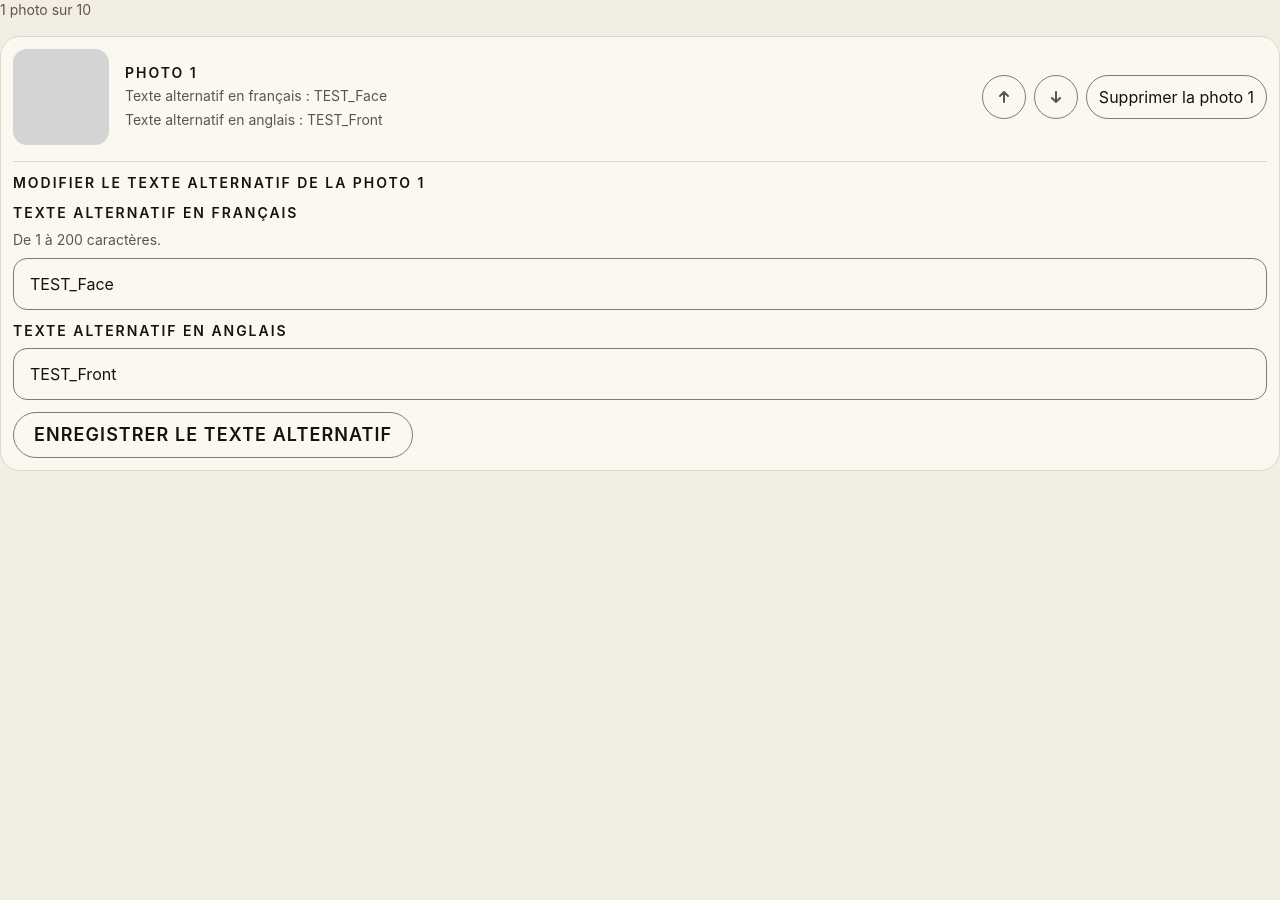
Test: suppression d'une photo › dernière photo d'un produit publié refusée : message clair, aucune annonce de succès, pas de relecture
The width and height of the screenshot is (1280, 900).
Click the button "Supprimer la photo 1" at (1176, 97), box [1086,75,1267,119]
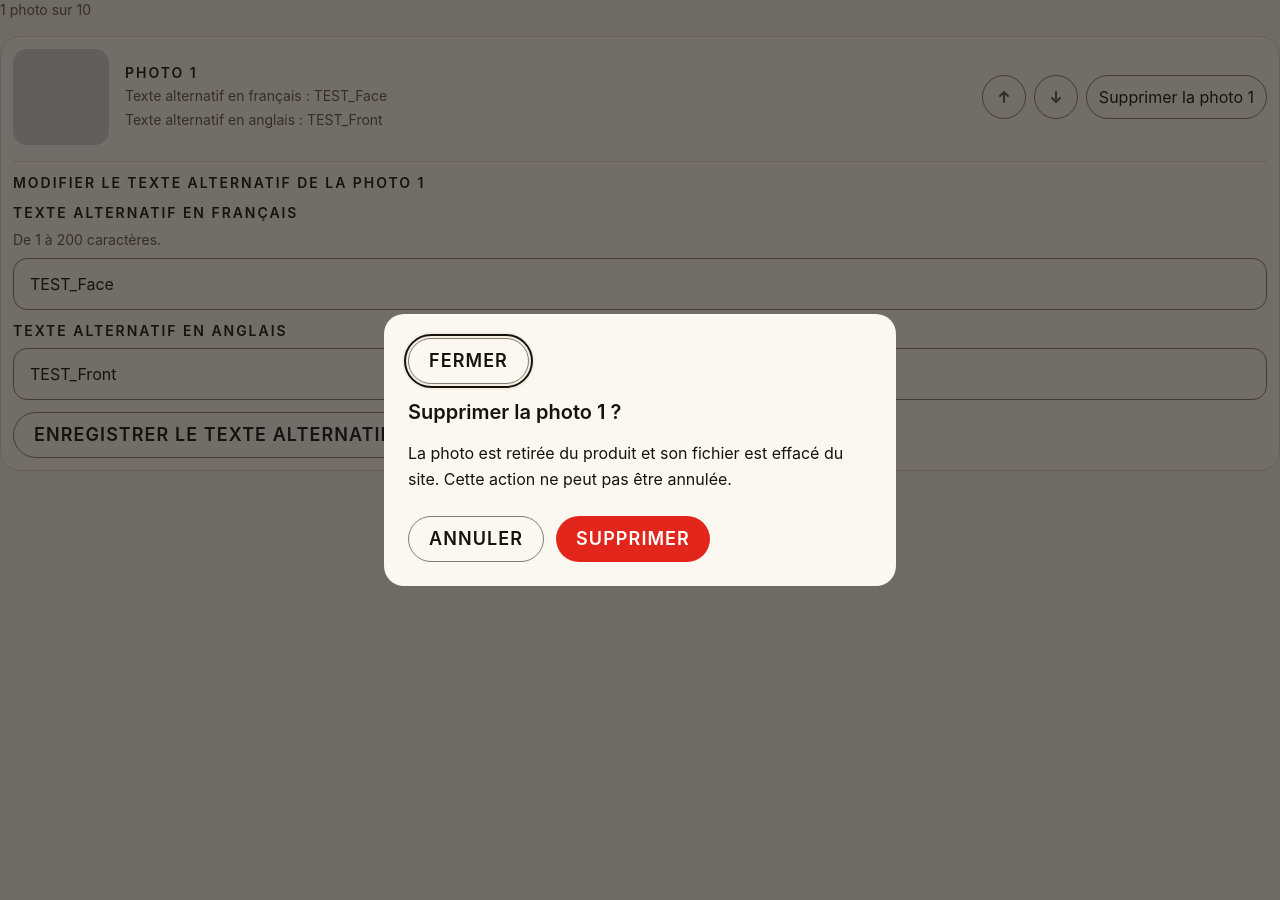
Click the button "Supprimer" at (633, 539), box [556,516,710,562]
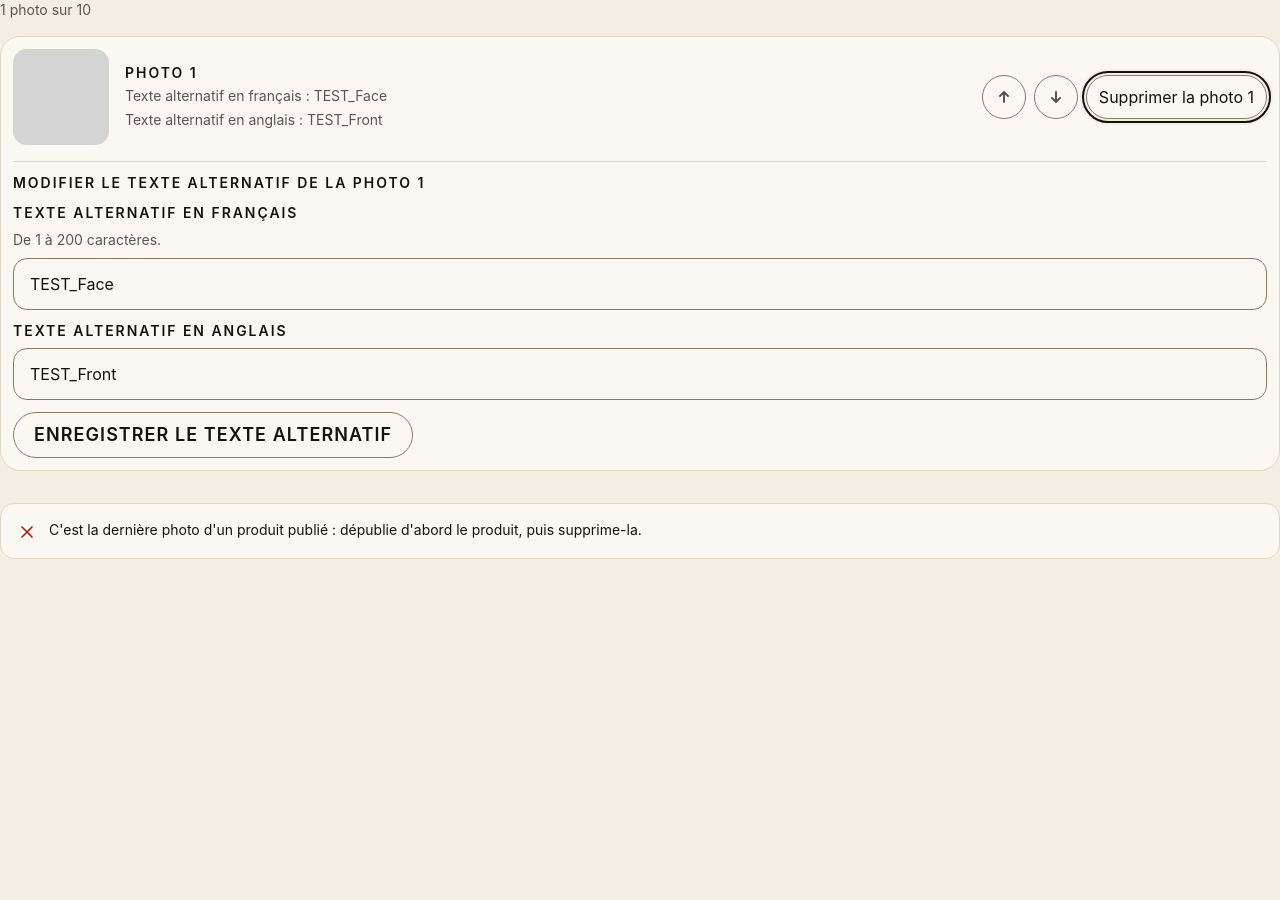
Check: the message shows "dépublie d'abord le produit", box [49,521,642,538]
Check: the dialog is gone
